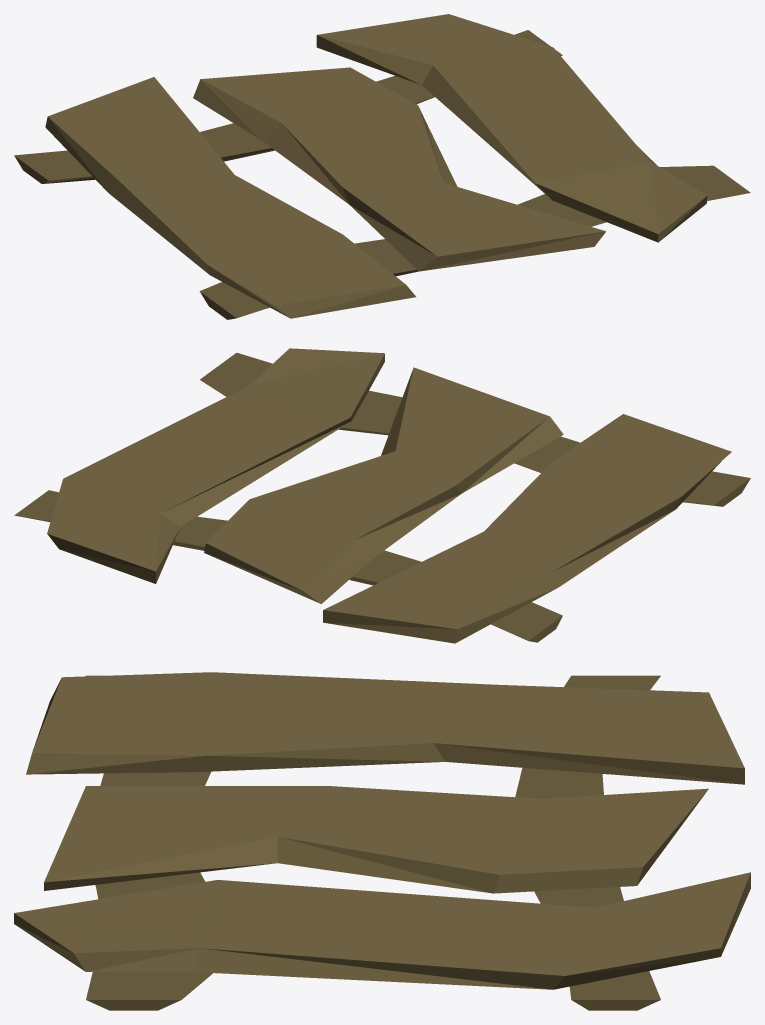
File: model_loc_499_0.obj
3 views of the same model, one above another, from view 1: azimuth 30°, elevation 25°; view 2: azimuth 150°, elevation 25°; view 3: azimuth 270°, elevation 25° (orthographic). The views are drawn at different scales.
Parts seen in each view (by area): view 1: 1073; view 2: 1073; view 3: 1073.
Boxes of the visible parts, left/top/right/bottom form: 1073: left=14, top=14, right=750, bottom=319; 1073: left=14, top=348, right=750, bottom=643; 1073: left=14, top=672, right=750, bottom=1010.
Bounding box in the file's own units: 128 × 5 × 123.
